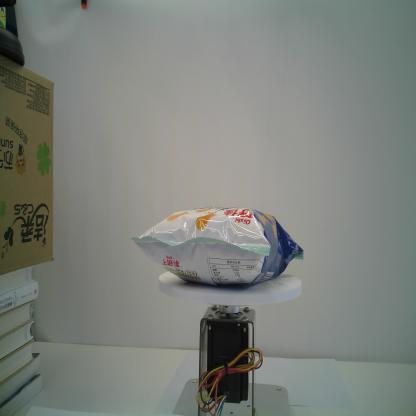Puffed Food: (130, 206, 304, 288)
